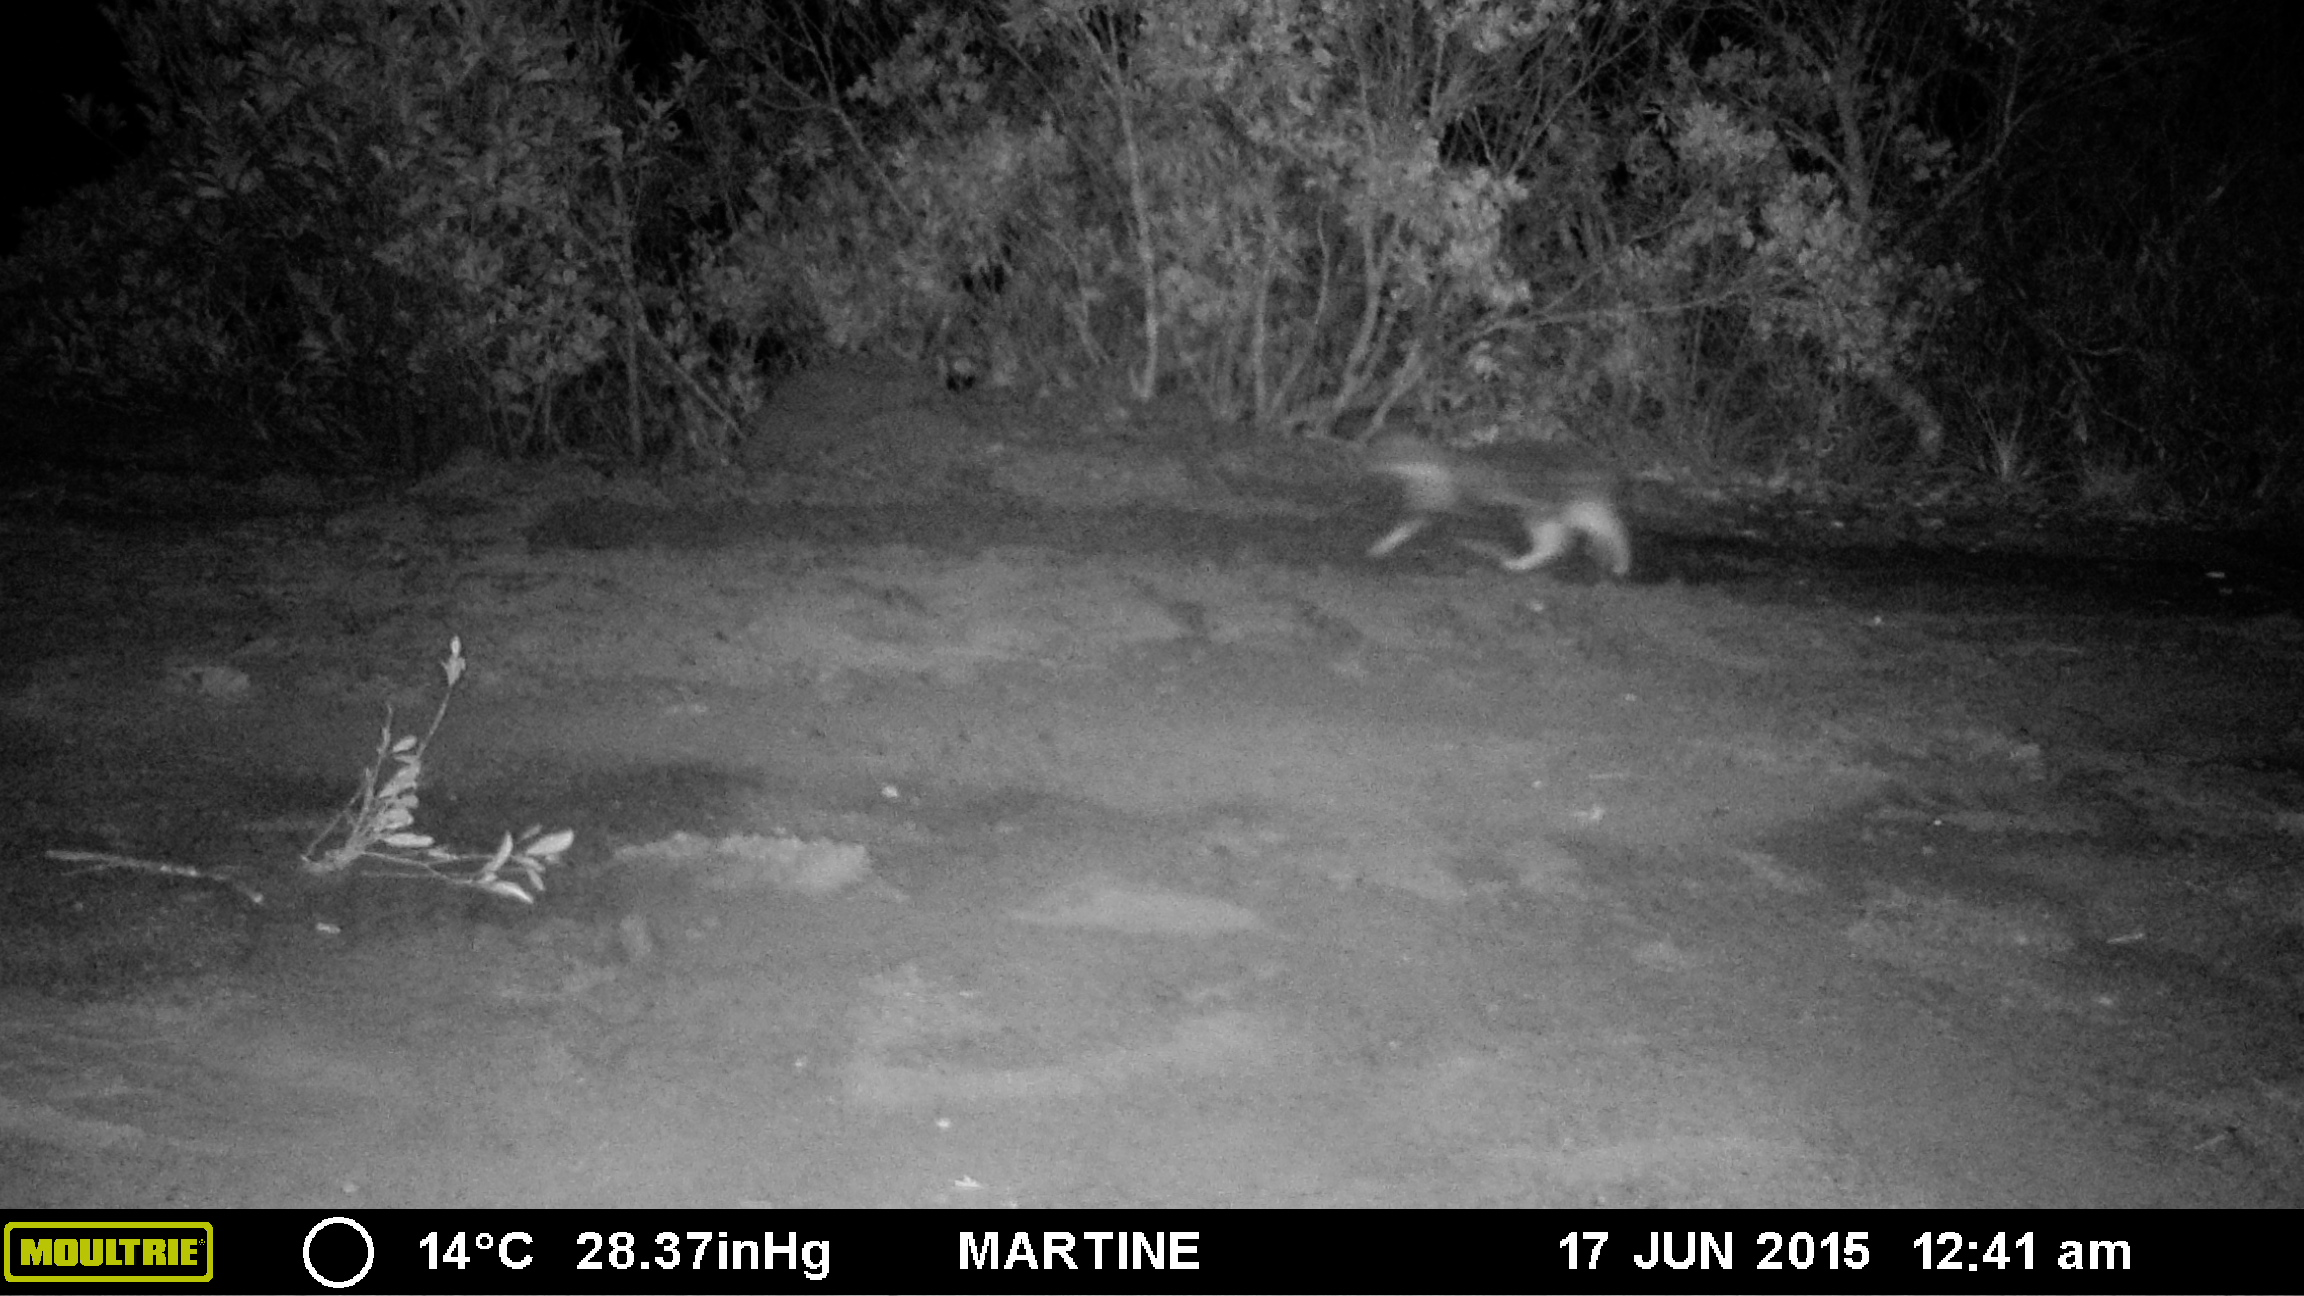cat: (1340, 415, 1654, 589)
